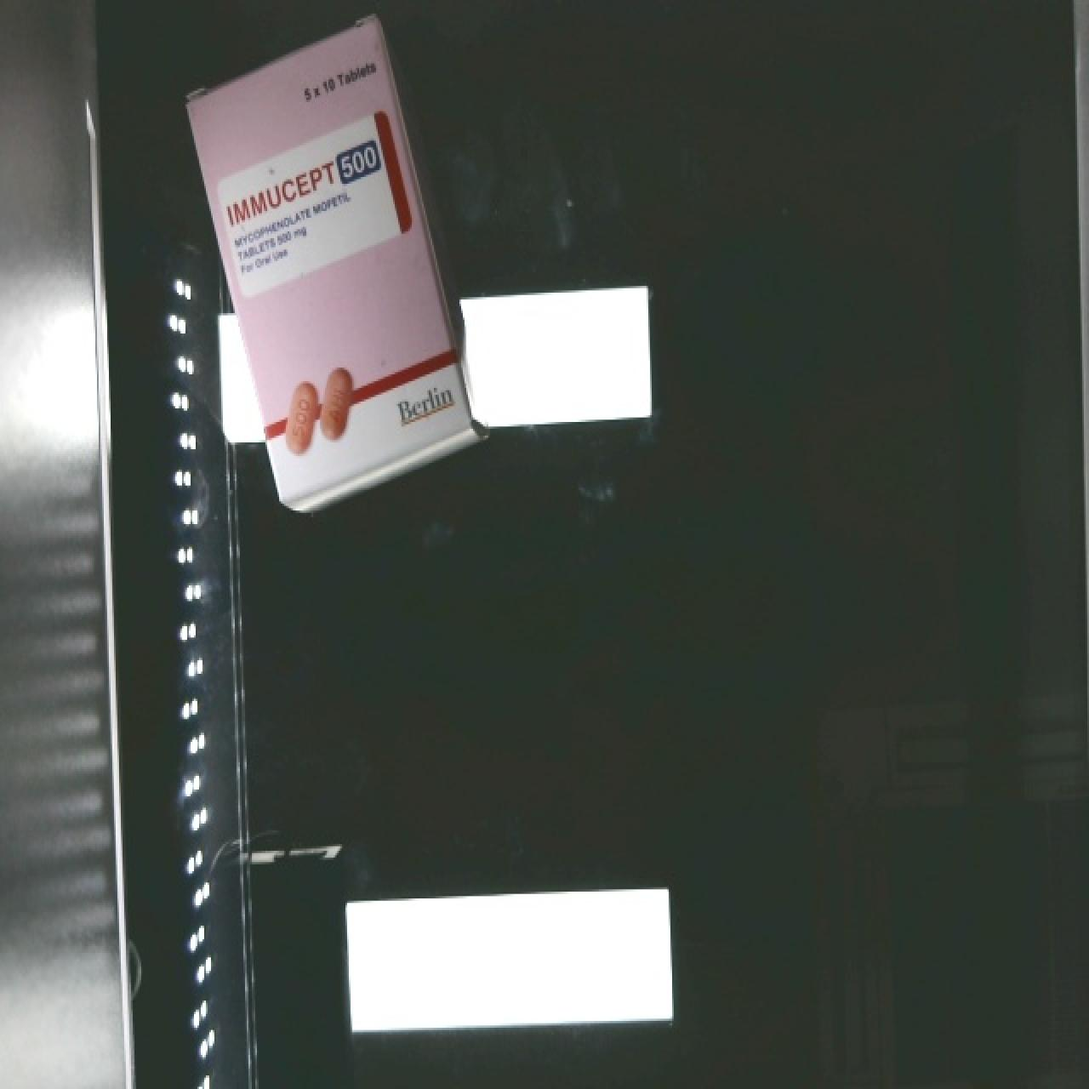medicine_label_obb: (205, 110, 407, 250)
